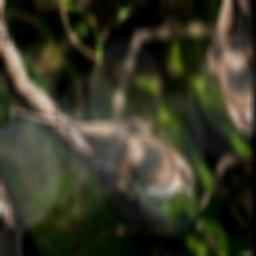Cuckoo: (6, 27, 208, 256)
